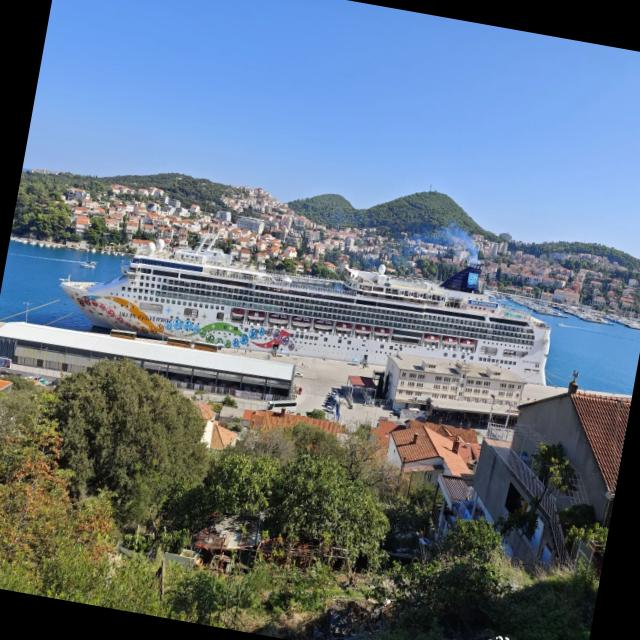Cruise: (62, 241, 551, 383)
